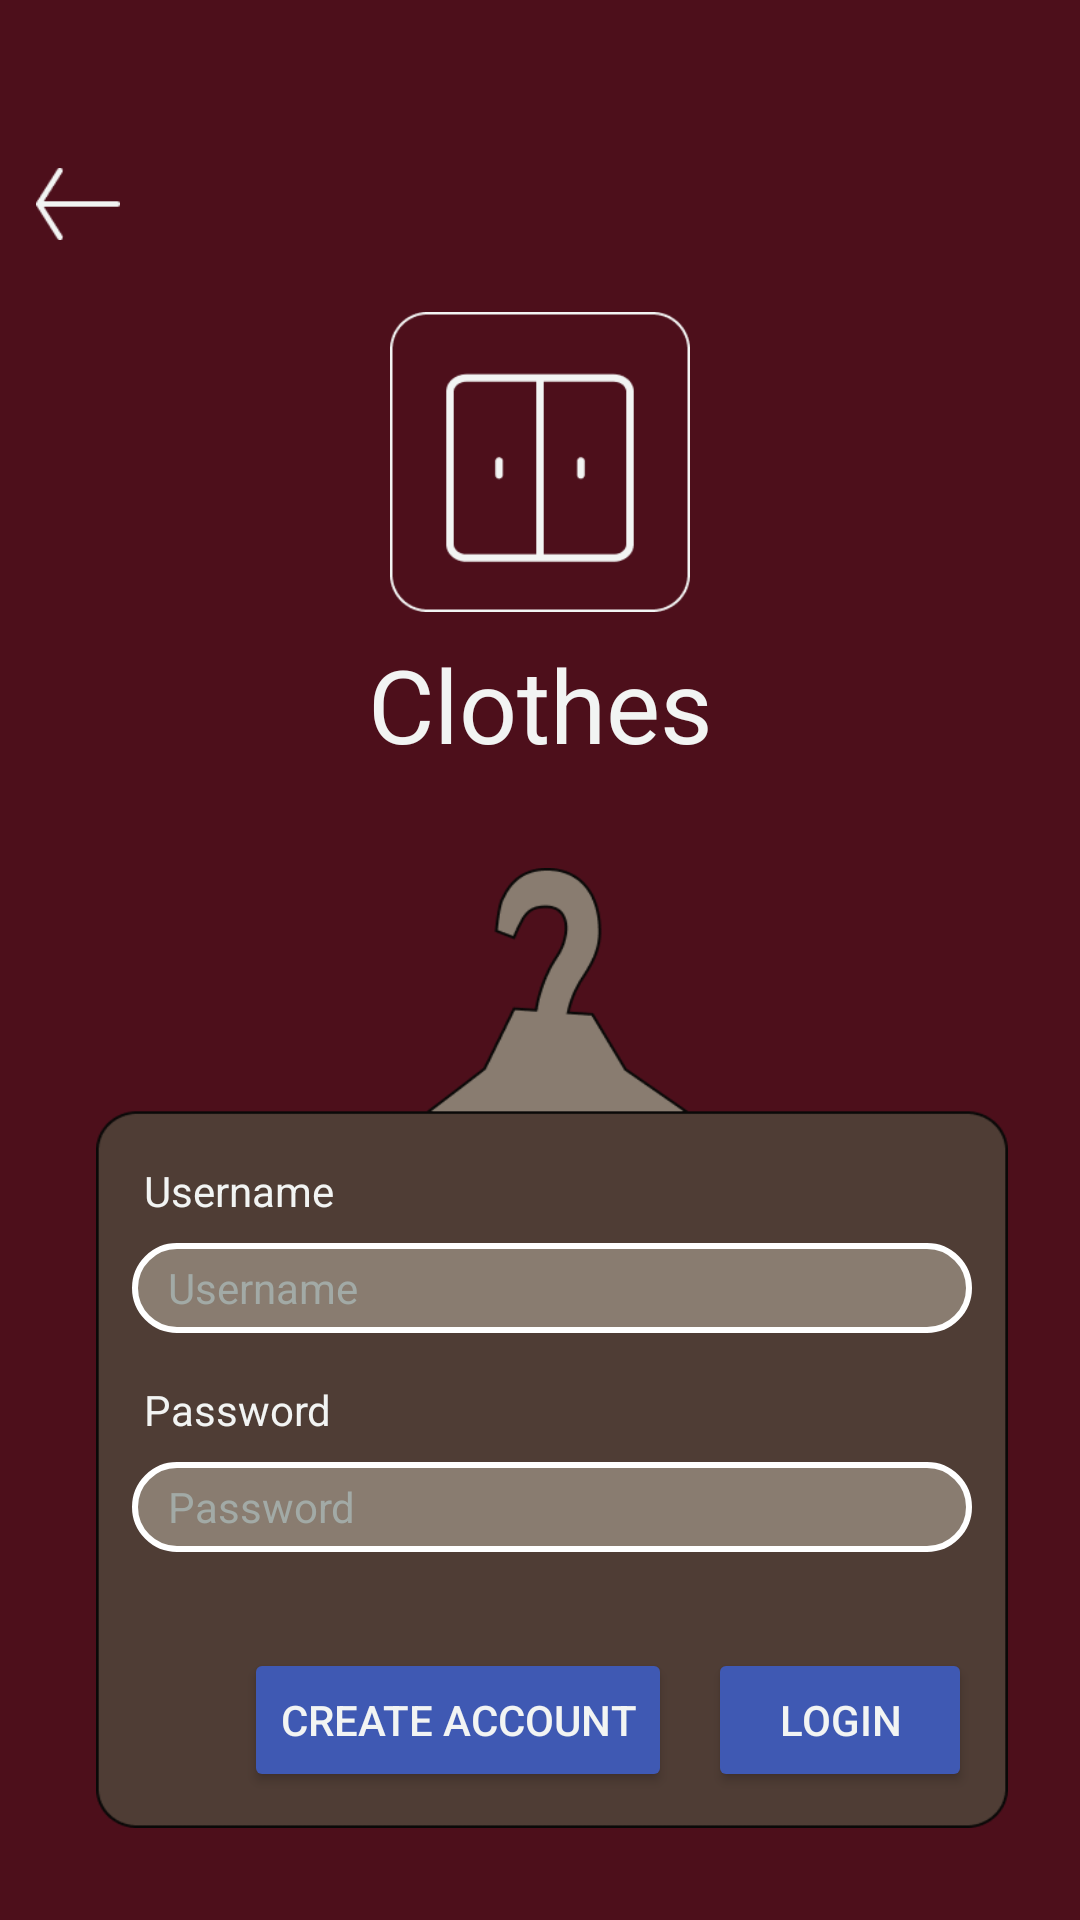

Icon click points for this 1080 x 1920 phone screenshot, format [x,y]:
back: [78,204]
